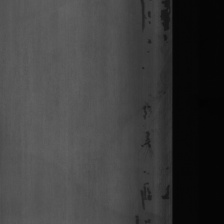oil_spot: (139, 1, 153, 53), (141, 101, 154, 154), (159, 1, 171, 44), (137, 180, 153, 210), (133, 214, 154, 224), (162, 181, 170, 200)
